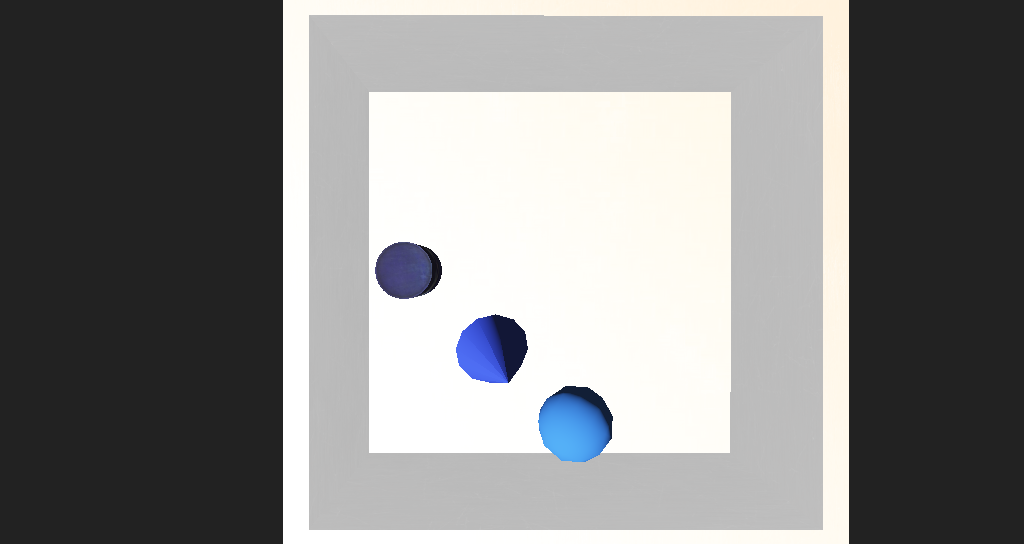cone: (360, 251, 421, 284)
cylinder: (411, 286, 505, 363)
sphere: (492, 336, 559, 379)
